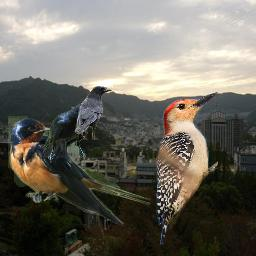Crow: (42, 103, 103, 163), (74, 86, 112, 140)
Swallow: (8, 116, 151, 224)
Woodpecker: (156, 91, 218, 245)
